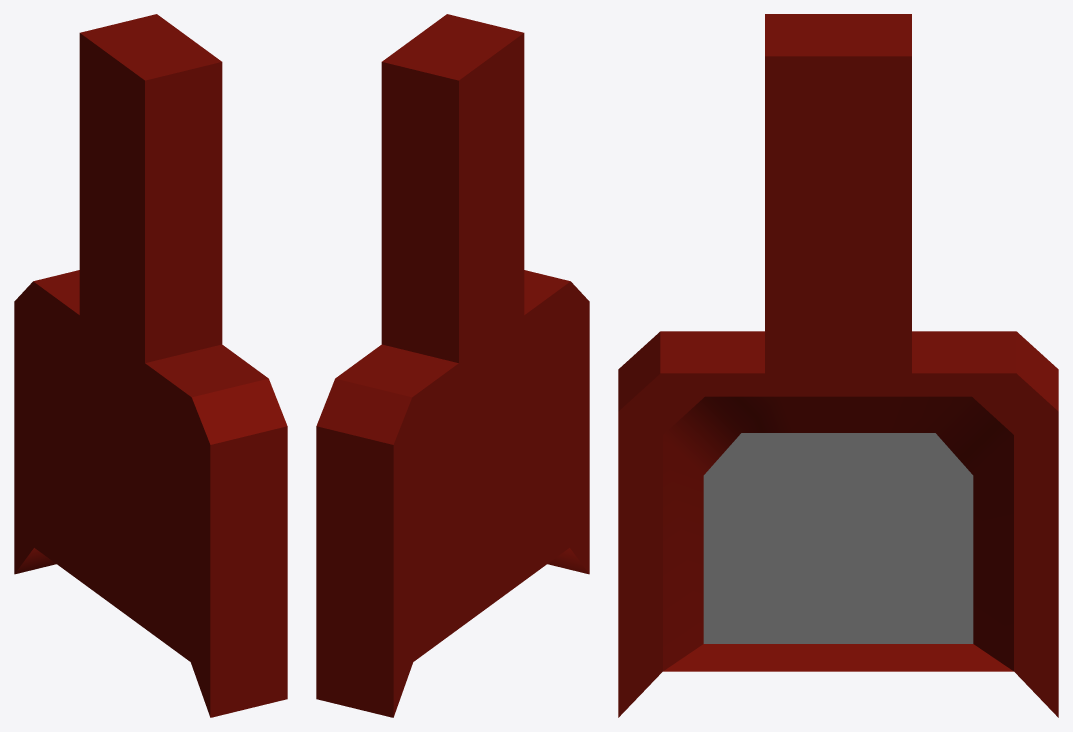
The model's file is fireplace.fbx.
3 views of the same model, side by side, from view 1: azimuth 30°, elevation 25°; view 2: azimuth 150°, elevation 25°; view 3: azimuth 270°, elevation 25° (orthographic). The views are drawn at different scales.
Parts seen in each view (by area): view 1: fireplace; view 2: fireplace; view 3: fireplace.
Boxes of the visible parts, bbox=[...] form: fireplace: bbox=[14, 14, 287, 717]; fireplace: bbox=[316, 14, 589, 717]; fireplace: bbox=[618, 14, 1058, 717].
Size of the model in its own units: 1.84 by 13.48 by 8.12.
